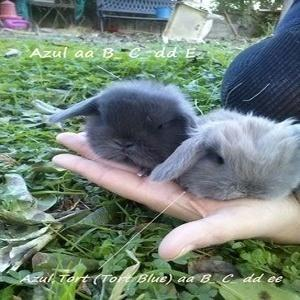rabbit: (47, 80, 300, 260)
